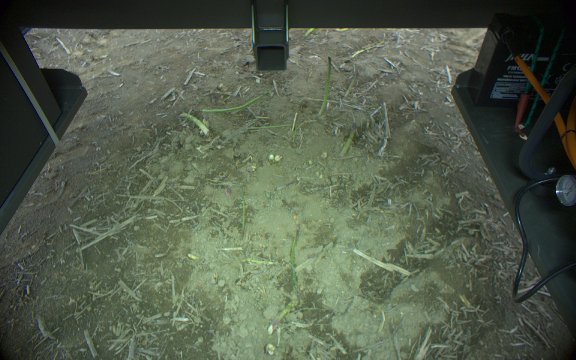aspa: (202, 91, 271, 113), (315, 56, 334, 118), (268, 298, 298, 335), (289, 224, 303, 296), (179, 111, 210, 137), (340, 120, 358, 156), (237, 183, 249, 236), (245, 121, 293, 131)
